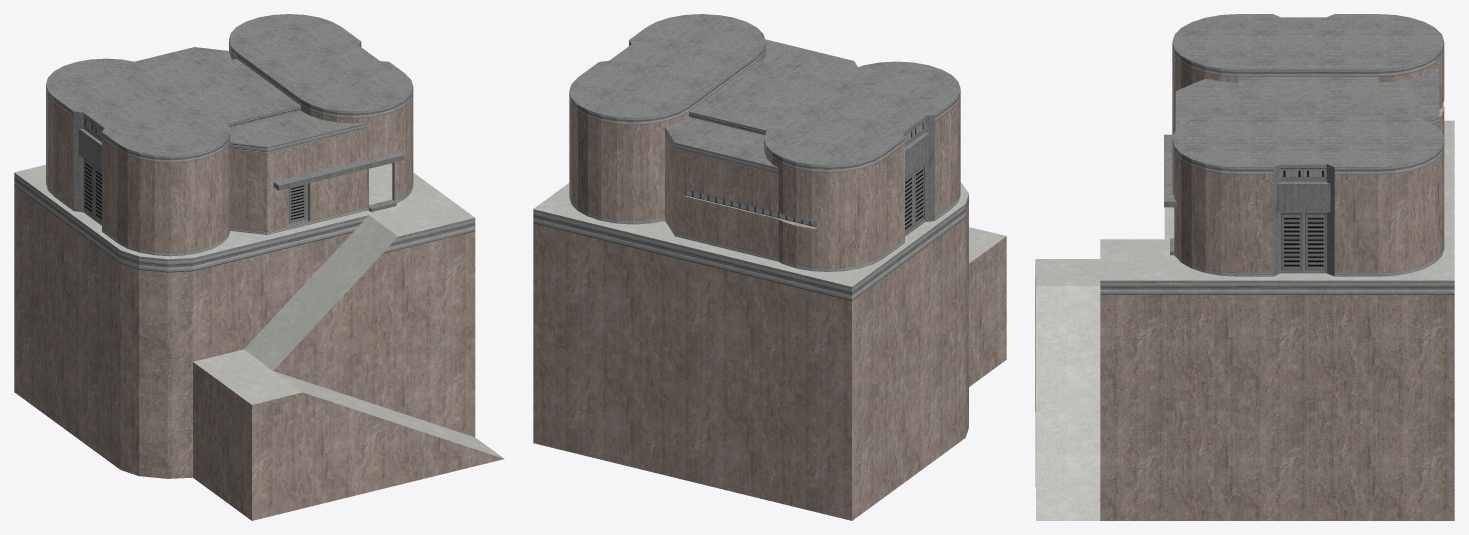
Rendered from ply_corl_house_m_s01_fp1_r0_exterior_mesh_l0.fbx.
The picture shows the model from 3 angles, left to right: view 1: azimuth 30°, elevation 25°; view 2: azimuth 150°, elevation 25°; view 3: azimuth 270°, elevation 25°; orthographic projection. The views are drawn at different scales.
Visible parts, largest first — view 1: mesh_node; view 2: mesh_node; view 3: mesh_node.
Part boxes in pixels (x1=…): mesh_node: x1=14, y1=14, x2=504, y2=520; mesh_node: x1=533, y1=14, x2=1006, y2=520; mesh_node: x1=1035, y1=14, x2=1454, y2=520.
Bounding box in the file's own units: 23.53 × 24 × 26.07.
